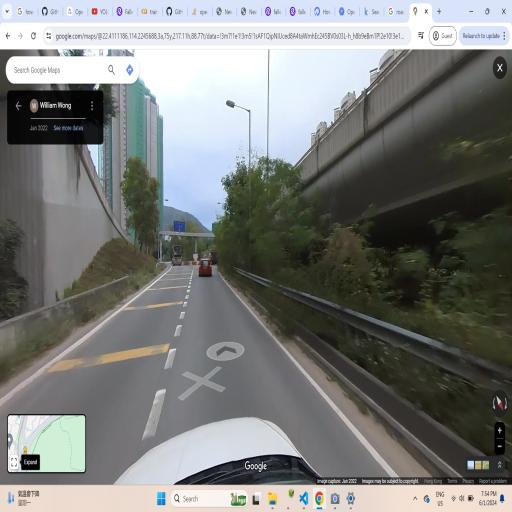Roads: (50, 266, 425, 479)
Trees: (120, 151, 163, 266)
